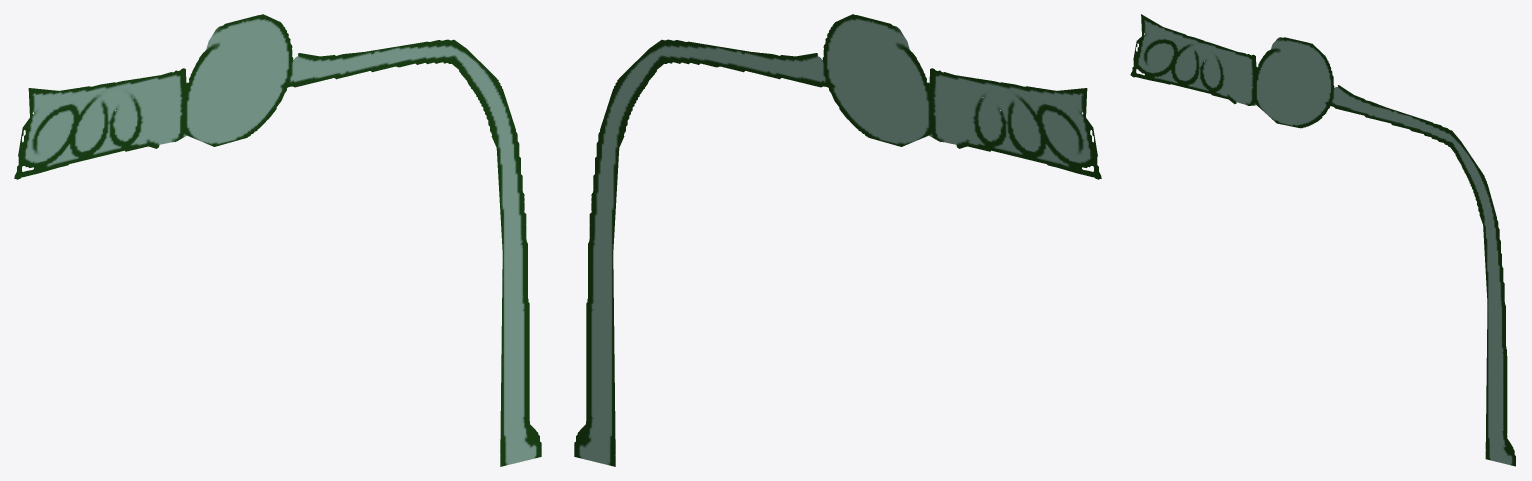
File: TrafficLight_02.fbx
The picture shows the model from 3 angles, left to right: view 1: azimuth 30°, elevation 25°; view 2: azimuth 150°, elevation 25°; view 3: azimuth 330°, elevation 25°; orthographic projection. The views are drawn at different scales.
Parts seen in each view (by area): view 1: 紅綠燈_02; view 2: 紅綠燈_02; view 3: 紅綠燈_02.
Boxes of the visible parts, x1,y1,x2,y2 form: 紅綠燈_02: (14,14,541,466); 紅綠燈_02: (574,14,1101,466); 紅綠燈_02: (1130,14,1515,466).
Size of the model in its own units: 236 by 218 by 2.6e-05.
1 material, 1 textured.
